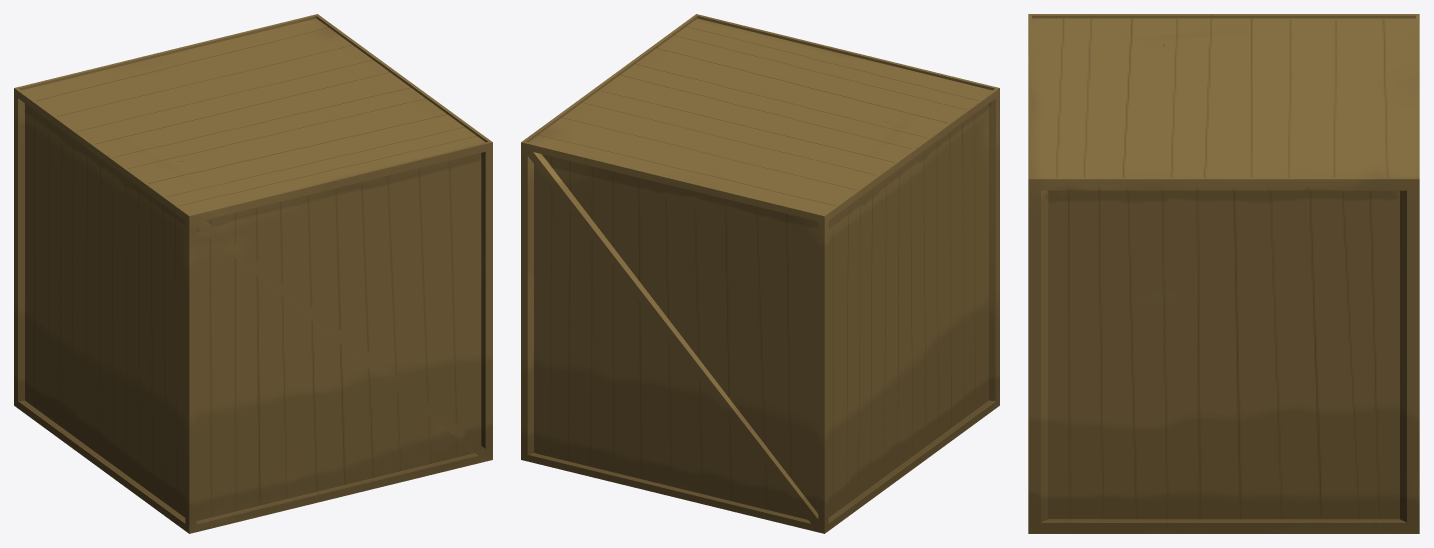
File: Box_met_texture.fbx
3 renders of one model, left to right at view 1: azimuth 30°, elevation 25°; view 2: azimuth 150°, elevation 25°; view 3: azimuth 270°, elevation 25°, orthographic. The views are drawn at different scales.
Parts seen in each view (by area): view 1: Cube.008; view 2: Cube.008; view 3: Cube.008.
Boxes of the visible parts, box(x1,y1,x2,y2) form: Cube.008: box(14, 14, 492, 533); Cube.008: box(521, 14, 999, 533); Cube.008: box(1028, 14, 1419, 533).
Bounding box in the file's own units: 15.8 × 15.8 × 15.8.
